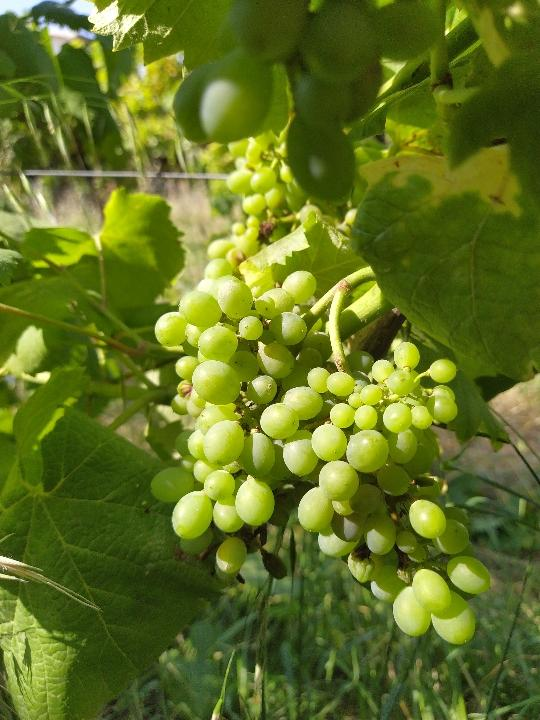grape: (150, 255, 493, 648)
